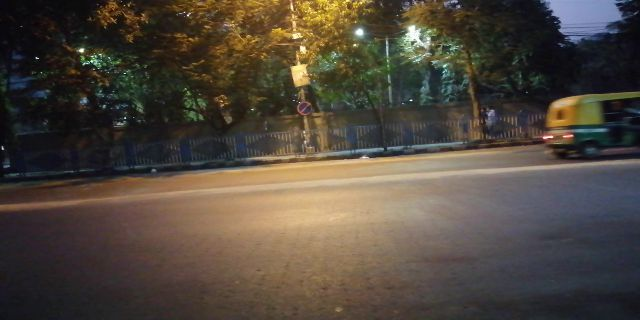Autorickshaw: (544, 91, 633, 155)
